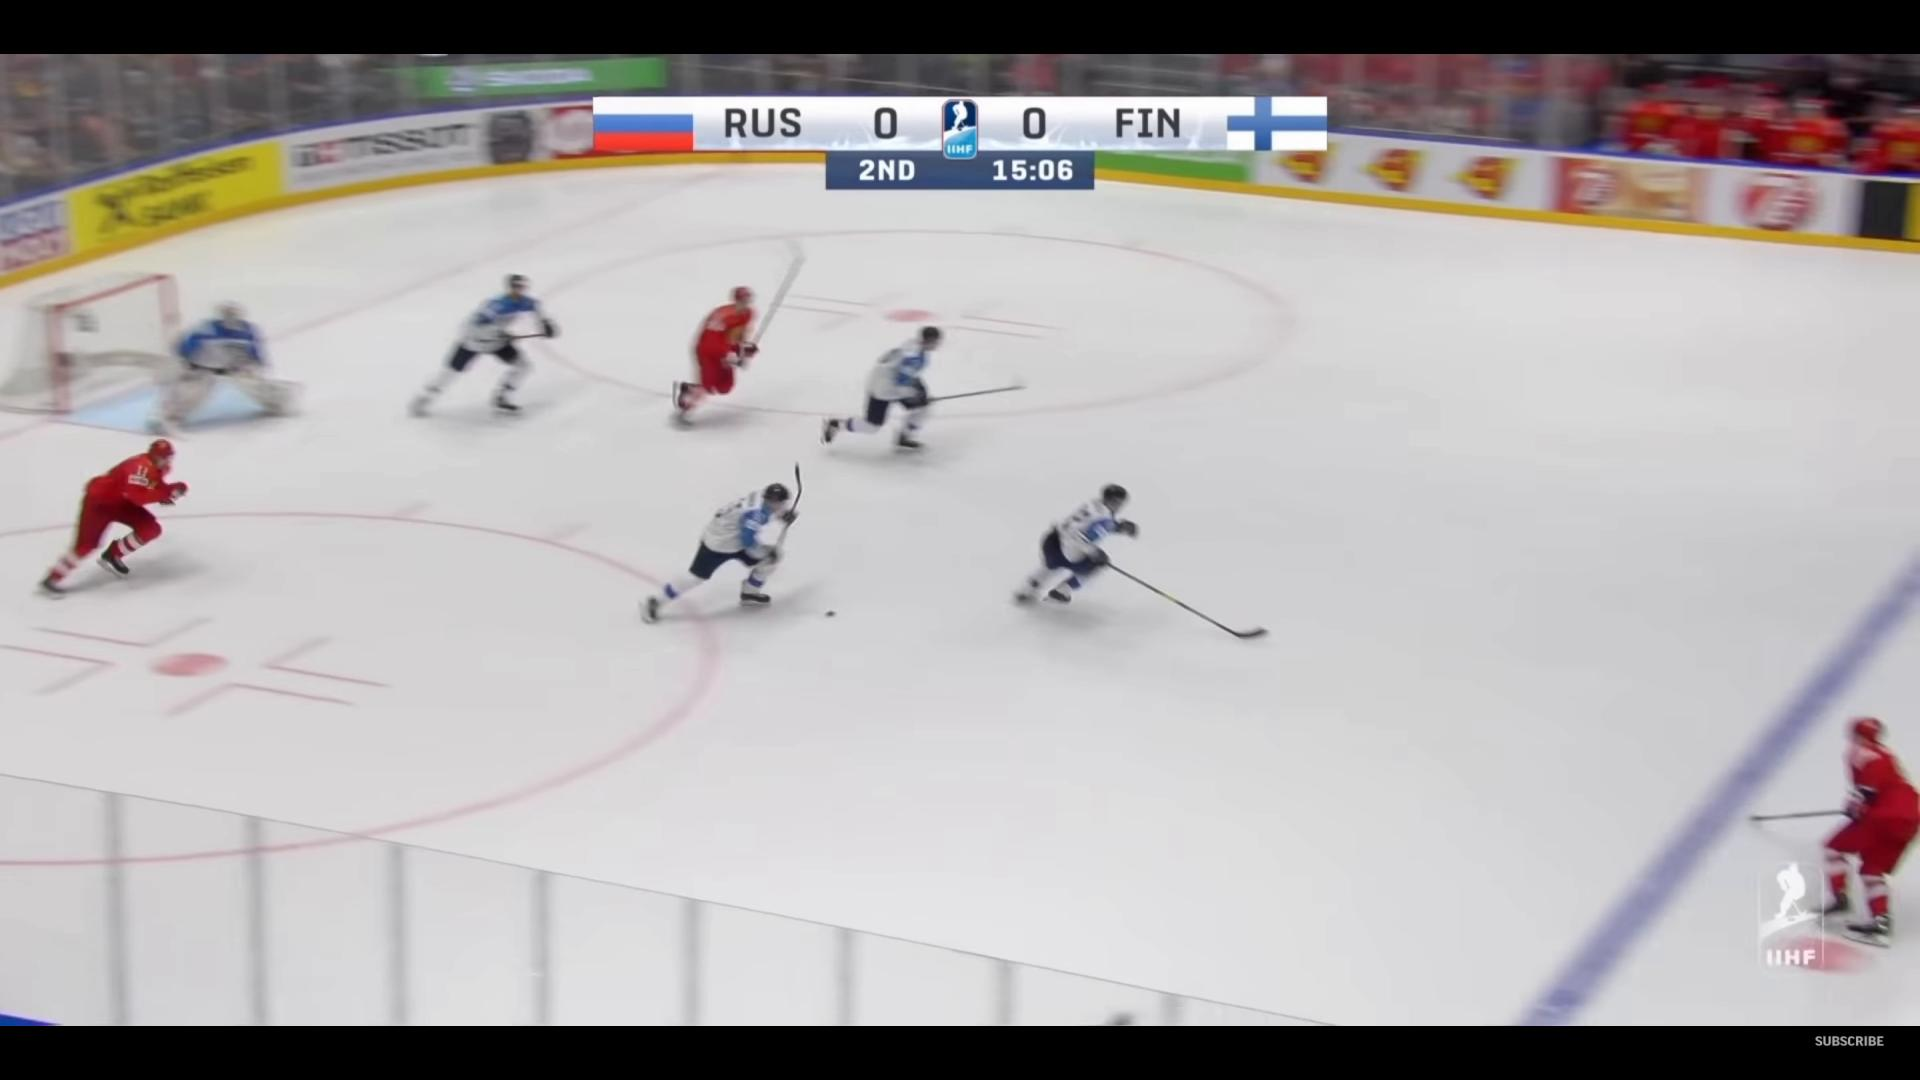puck: (824, 609, 836, 616)
